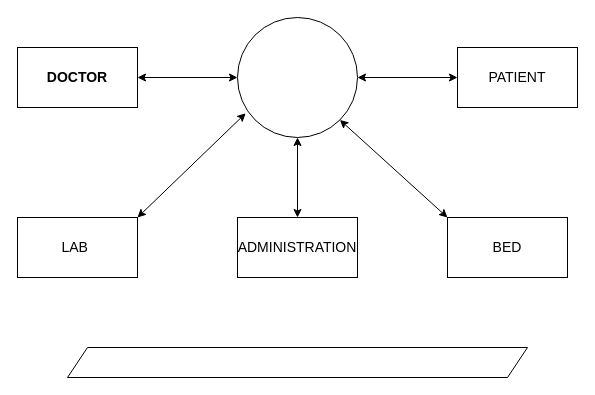
The diagram is 595 pixels wide and 395 high, and some of its shapes have lost their labels. The centre of each missing label's shape, as x and y in pixels:
Block Diagram of Hospital Management System: the point at 297,362
HOSPITAL MANAGEMENT SYSTEM: the point at 297,77
